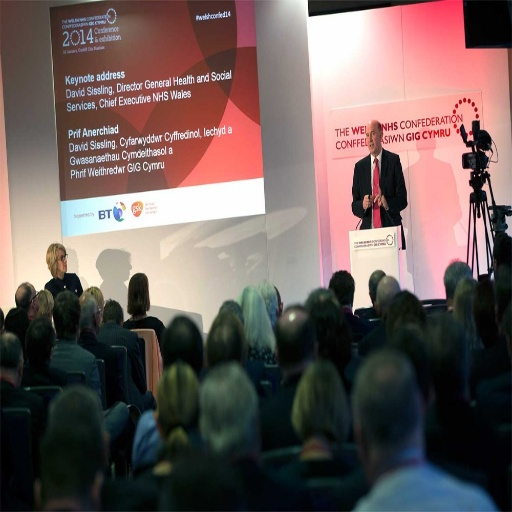hand: (373, 183, 386, 208), (360, 193, 372, 213)
